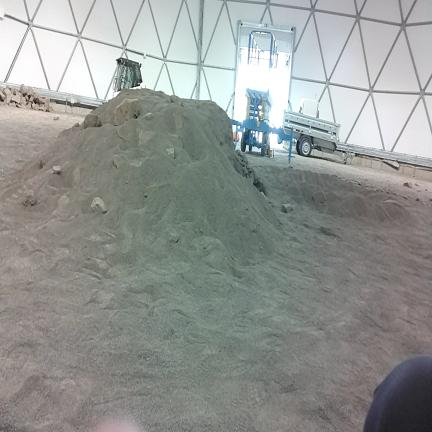Rock: (199, 199, 432, 235), (115, 99, 138, 125), (84, 114, 102, 128), (22, 189, 36, 207), (91, 197, 106, 213), (254, 177, 266, 194), (113, 155, 126, 169), (94, 258, 109, 270), (313, 192, 326, 203), (169, 232, 179, 243), (383, 200, 401, 206), (282, 204, 292, 213), (19, 84, 27, 95), (114, 155, 120, 169), (5, 92, 12, 104), (11, 94, 20, 103), (166, 148, 174, 158), (34, 94, 41, 104), (27, 86, 34, 96), (0, 90, 6, 101), (4, 88, 12, 96), (53, 166, 61, 174), (145, 113, 154, 120), (261, 192, 268, 201), (45, 98, 50, 110), (21, 96, 26, 108), (250, 224, 256, 232), (404, 182, 412, 188), (38, 160, 43, 169), (32, 102, 38, 109), (26, 102, 31, 109), (28, 95, 33, 102), (11, 88, 16, 94), (53, 116, 60, 120), (72, 123, 79, 127), (25, 95, 28, 102), (0, 101, 5, 105), (416, 198, 420, 202), (403, 196, 408, 199), (429, 198, 432, 202), (417, 189, 421, 192), (415, 183, 419, 186)
